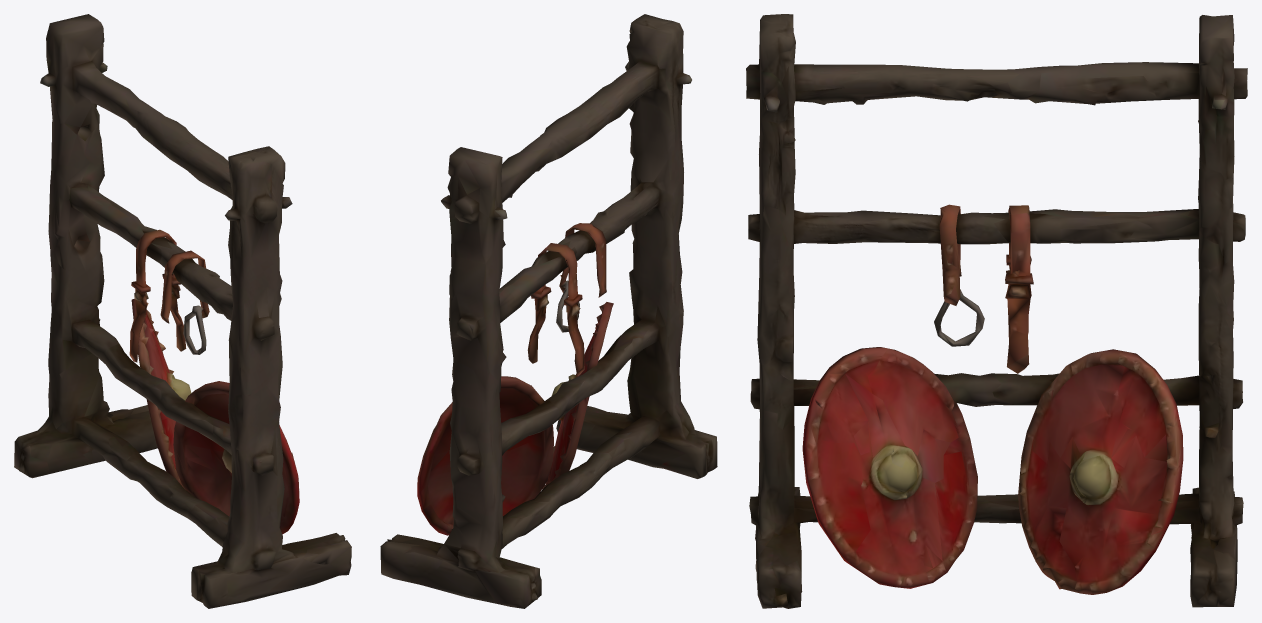
File: equipment-rack.glb
The picture shows the model from 3 angles, left to right: view 1: azimuth 30°, elevation 25°; view 2: azimuth 150°, elevation 25°; view 3: azimuth 270°, elevation 25°; orthographic projection. The views are drawn at different scales.
Visible parts, largest first — view 1: tripo_node_9a732ae9-85b9-4fde-98fa-084823134827; view 2: tripo_node_9a732ae9-85b9-4fde-98fa-084823134827; view 3: tripo_node_9a732ae9-85b9-4fde-98fa-084823134827.
Part boxes in pixels (x1=…): tripo_node_9a732ae9-85b9-4fde-98fa-084823134827: x1=14, y1=14, x2=351, y2=608; tripo_node_9a732ae9-85b9-4fde-98fa-084823134827: x1=380, y1=14, x2=717, y2=608; tripo_node_9a732ae9-85b9-4fde-98fa-084823134827: x1=746, y1=14, x2=1247, y2=608.
Size of the model in its own units: 0.7175 by 2 by 1.71.
1 material, 1 textured.
